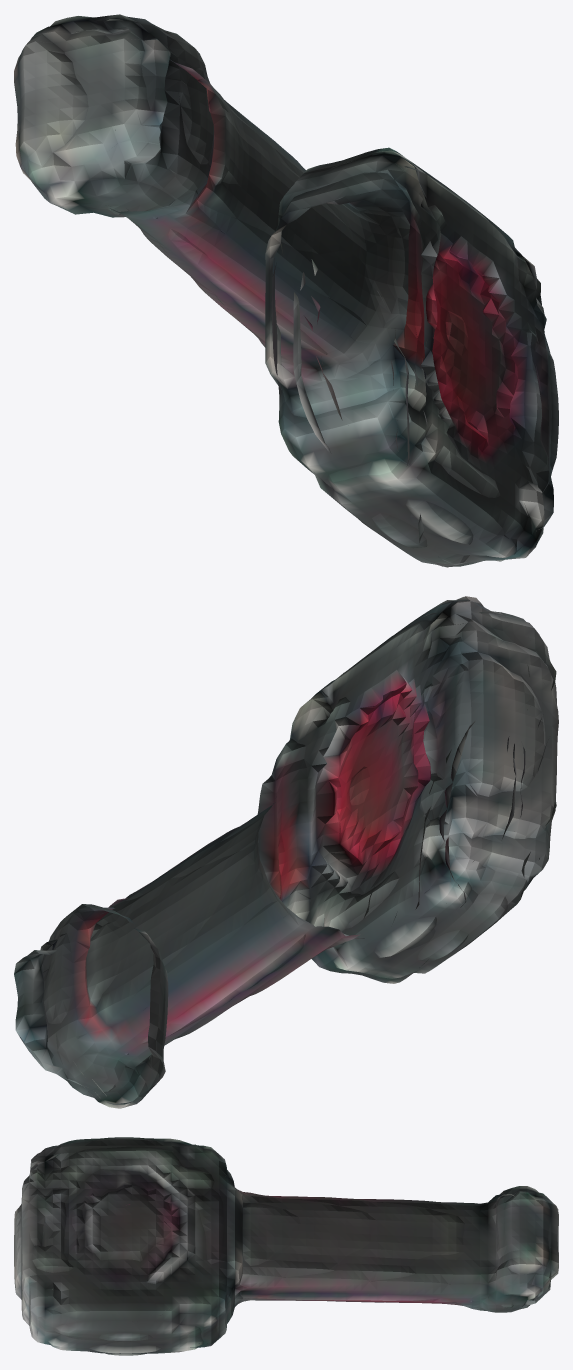
File: wrench-triposr.glb
3 renders of one model, top to bottom at view 1: azimuth 30°, elevation 25°; view 2: azimuth 150°, elevation 25°; view 3: azimuth 270°, elevation 25°, orthographic. The views are drawn at different scales.
Visible parts, largest first — view 1: geometry_0; view 2: geometry_0; view 3: geometry_0.
Part boxes in pixels (x1,y1,x2,y2): geometry_0: (14,14,558,567); geometry_0: (14,596,558,1108); geometry_0: (14,1137,558,1355).
Bounding box in the file's own units: 0.204 × 0.3894 × 0.9444.
